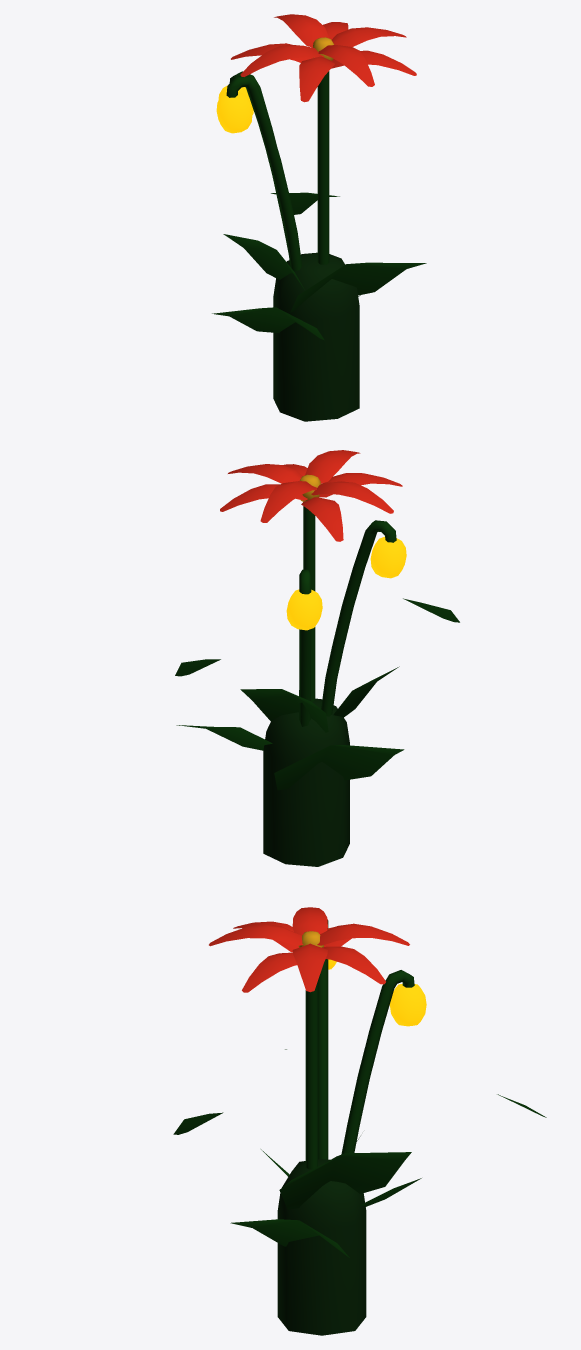
Rendered from HealingPlant.fbx.
The picture shows the model from 3 angles, top to bottom: view 1: azimuth 30°, elevation 25°; view 2: azimuth 150°, elevation 25°; view 3: azimuth 270°, elevation 25°; orthographic projection. The views are drawn at different scales.
Parts seen in each view (by area): view 1: Cube, Cylinder.002, Cylinder.001, Plane.001, Plane.006, Plane.007, Cube.002, Plane.010, Plane.011, Plane.014, Plane.012, Plane.013 (+1 smaller); view 2: Cube, Plane.002, Cylinder.002, Plane.008, Cylinder.003, Cylinder.001, Cube.002, Cube.001, Plane.012, Plane.011, Plane.015, Plane.010 (+5 smaller); view 3: Cube, Plane.003, Cylinder.003, Cylinder.001, Cylinder.002, Plane.005, Cube.001, Plane.010, Plane.013, Plane.012, Plane.016, Plane.017 (+1 smaller).
Part boxes in pixels (x1,y1,x2,y2): Cube: (273,252,359,421); Cylinder.002: (226,75,302,271); Cylinder.001: (317,71,329,264); Plane.001: (290,262,426,312); Plane.006: (212,307,324,340); Plane.007: (223,234,304,289); Cube.002: (216,92,252,133); Plane.010: (318,45,374,86); Plane.011: (240,45,323,76); Plane.014: (299,56,334,102); Plane.012: (274,14,329,47); Plane.013: (331,27,406,46); Cube: (263,698,349,866); Plane.002: (274,745,404,790); Cylinder.002: (321,520,396,716); Plane.008: (240,689,328,732); Cylinder.003: (299,569,311,726); Cylinder.001: (303,506,315,702); Cube.002: (370,536,406,578); Cube.001: (286,589,322,630); Plane.012: (260,481,316,522); Plane.011: (311,481,393,513); Plane.015: (301,497,343,541); Plane.010: (305,450,360,483); Cube: (277,1159,366,1335); Plane.003: (279,1152,411,1209); Cylinder.003: (341,970,414,1154); Cylinder.001: (305,981,317,1169); Cylinder.002: (318,920,328,1159); Plane.005: (230,1219,349,1257); Cube.001: (389,984,426,1026); Plane.010: (209,924,303,946); Plane.013: (292,943,327,992); Plane.012: (317,923,409,945); Plane.016: (322,946,385,984); Plane.017: (242,952,297,992).
Bounding box in the file's own units: 101 × 79.59 × 102.
